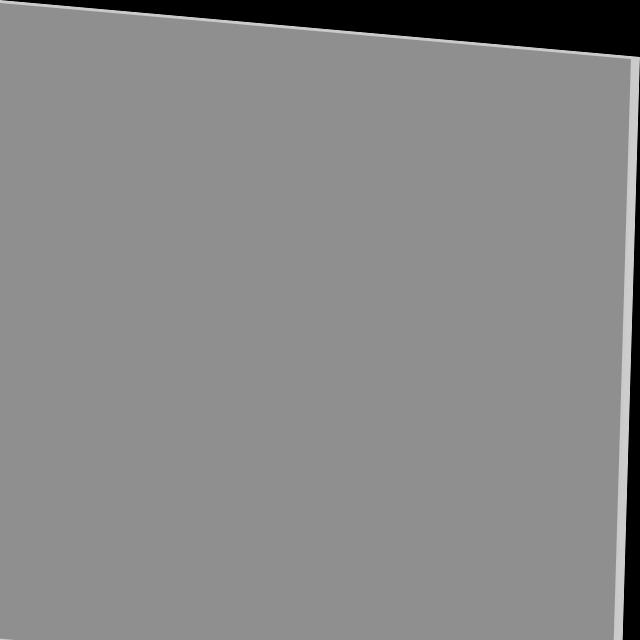qr_code: (0, 3, 631, 640)
